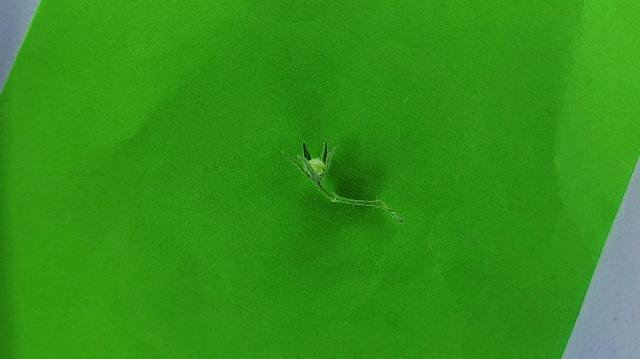Fruit Bud: (301, 139, 334, 180)
